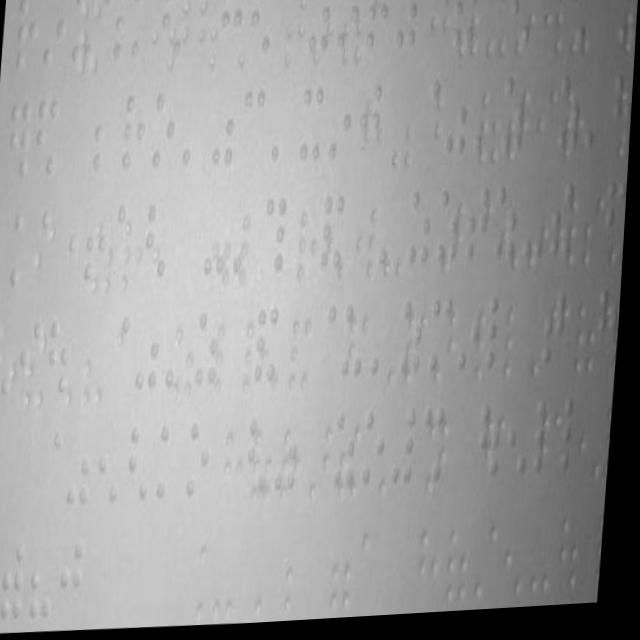braiile: (407, 191, 438, 276), (159, 423, 189, 510), (137, 306, 167, 393), (298, 83, 328, 170), (270, 84, 300, 171), (445, 77, 475, 162), (34, 537, 63, 624), (99, 423, 128, 510), (328, 84, 358, 167), (69, 427, 98, 512), (211, 90, 240, 173), (151, 92, 180, 175), (510, 401, 537, 488), (564, 400, 591, 487), (50, 316, 77, 403), (182, 92, 211, 173), (380, 190, 407, 275), (524, 181, 551, 266), (433, 298, 460, 379), (200, 310, 227, 391), (132, 422, 158, 504), (190, 422, 217, 500), (367, 410, 393, 491), (489, 298, 516, 376), (461, 299, 488, 377), (438, 189, 465, 267), (375, 304, 401, 382), (0, 313, 21, 400), (0, 539, 7, 625)
